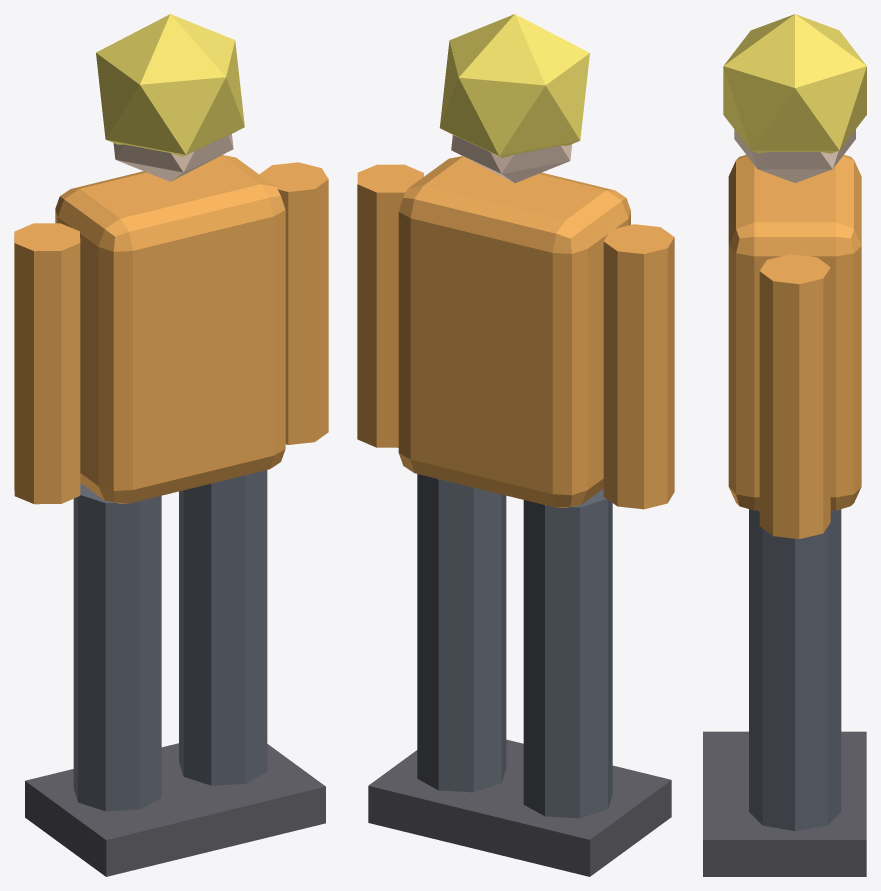
The model's file is bt-hw-worker.glb.
3 renders of one model, left to right at view 1: azimuth 30°, elevation 25°; view 2: azimuth 150°, elevation 25°; view 3: azimuth 270°, elevation 25°, orthographic.
Parts seen in each view (by area): view 1: bt-hw-worker_torso, bt-hw-worker_legL, bt-hw-worker_legR, bt-hw-worker_feet, bt-hw-worker_arm-1, bt-hw-worker_helmet, bt-hw-worker_arm1, bt-hw-worker_head; view 2: bt-hw-worker_torso, bt-hw-worker_legL, bt-hw-worker_legR, bt-hw-worker_arm-1, bt-hw-worker_feet, bt-hw-worker_helmet, bt-hw-worker_arm1, bt-hw-worker_head; view 3: bt-hw-worker_torso, bt-hw-worker_legR, bt-hw-worker_arm1, bt-hw-worker_helmet, bt-hw-worker_feet, bt-hw-worker_head.
Boxes of the visible parts, bbox=[...] form: bt-hw-worker_torso: bbox=[55, 155, 285, 503]; bt-hw-worker_legL: bbox=[73, 483, 161, 811]; bt-hw-worker_legR: bbox=[179, 470, 267, 785]; bt-hw-worker_feet: bbox=[25, 743, 325, 876]; bt-hw-worker_arm-1: bbox=[14, 223, 80, 504]; bt-hw-worker_helmet: bbox=[96, 14, 244, 156]; bt-hw-worker_arm1: bbox=[259, 162, 328, 444]; bt-hw-worker_head: bbox=[113, 134, 233, 181]; bt-hw-worker_torso: bbox=[398, 156, 630, 507]; bt-hw-worker_legL: bbox=[523, 488, 612, 818]; bt-hw-worker_legR: bbox=[417, 474, 506, 792]; bt-hw-worker_arm-1: bbox=[603, 224, 674, 509]; bt-hw-worker_feet: bbox=[368, 739, 671, 876]; bt-hw-worker_helmet: bbox=[439, 14, 589, 157]; bt-hw-worker_arm1: bbox=[357, 164, 423, 447]; bt-hw-worker_head: bbox=[451, 135, 572, 182]; bt-hw-worker_torso: bbox=[728, 155, 861, 510]; bt-hw-worker_legR: bbox=[749, 509, 841, 831]; bt-hw-worker_arm1: bbox=[759, 254, 830, 539]; bt-hw-worker_helmet: bbox=[723, 14, 866, 153]; bt-hw-worker_feet: bbox=[703, 731, 866, 876]; bt-hw-worker_head: bbox=[734, 129, 855, 182].
Bounding box in the file's own units: 0.699 × 1.75 × 0.3204.
